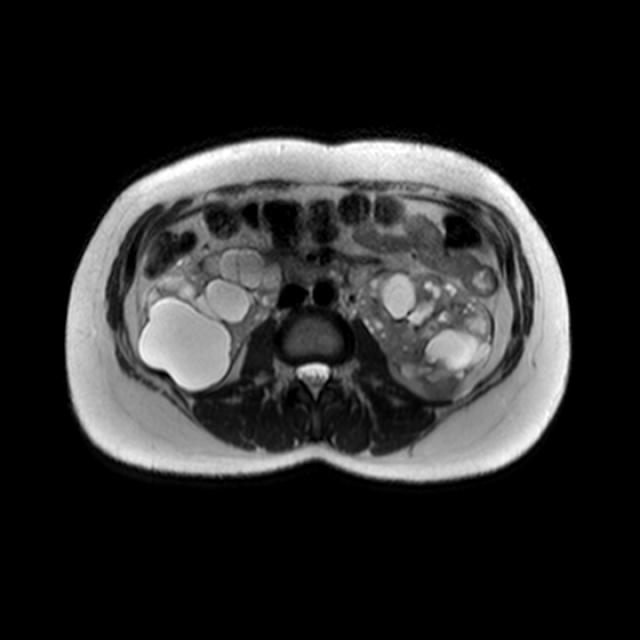sag: (135, 245, 285, 392)
sol: (352, 263, 496, 400)
